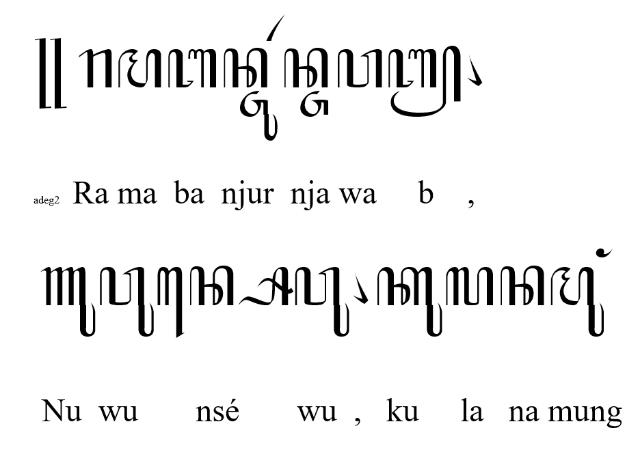-b: (387, 44, 461, 118)
Nu: (40, 266, 96, 338)
_j: (300, 90, 328, 118)
_ju: (240, 90, 278, 140)
_r1: (265, 14, 285, 42)
_s: (237, 266, 293, 306)
adeg2: (34, 38, 66, 110)
b: (166, 48, 218, 88)
e1: (158, 267, 185, 339)
kom: (352, 273, 368, 305), (467, 54, 481, 86)
ku: (376, 266, 442, 338)
l: (444, 266, 494, 306)
m: (117, 49, 161, 89)
mu: (550, 267, 604, 337)
n: (223, 48, 267, 88), (284, 48, 328, 88), (190, 266, 234, 306), (500, 266, 544, 306)
ng: (596, 249, 612, 258)
r: (80, 49, 112, 88)
w: (336, 49, 382, 89)
wu: (294, 266, 350, 336), (100, 266, 154, 338)
